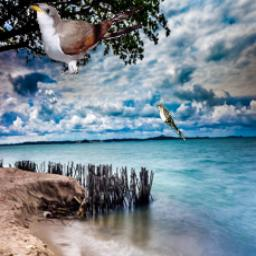Cuckoo: (28, 2, 141, 74), (157, 103, 188, 142)
